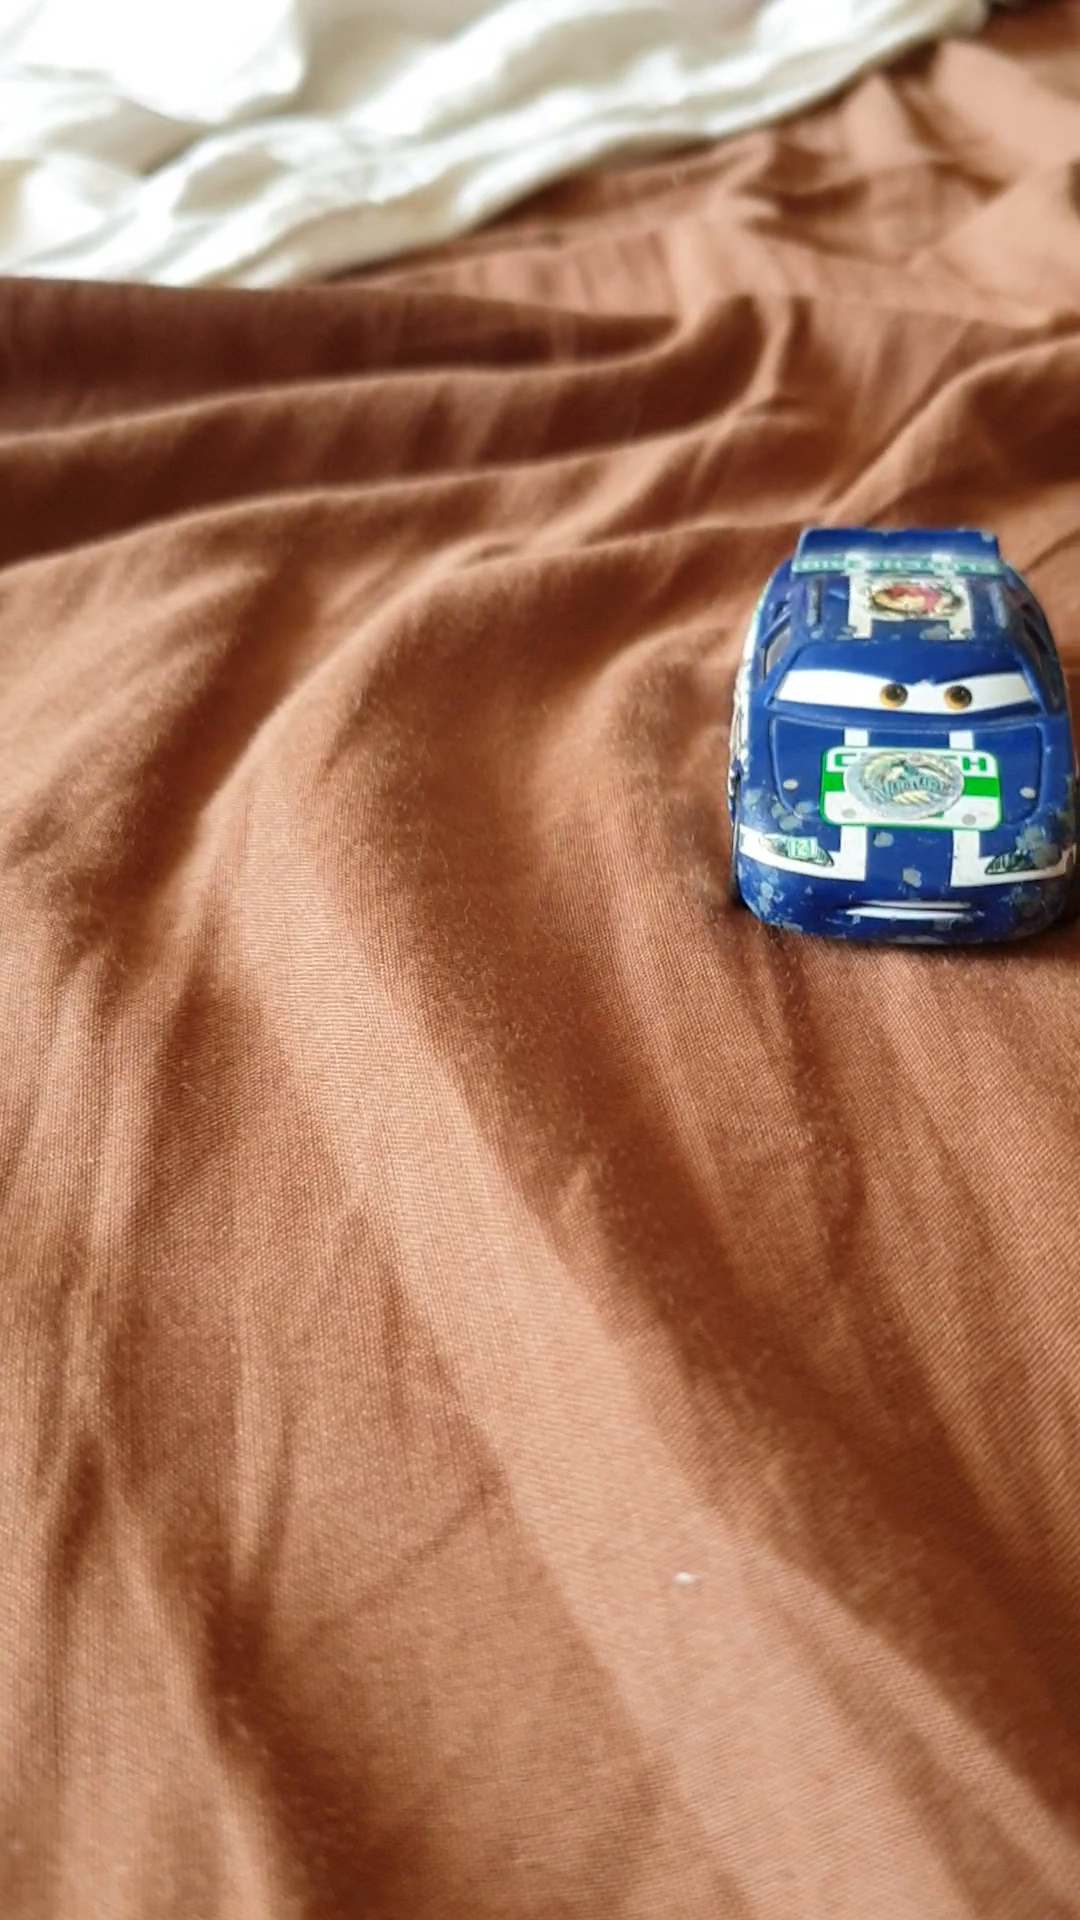cars: (717, 522, 1079, 961)
